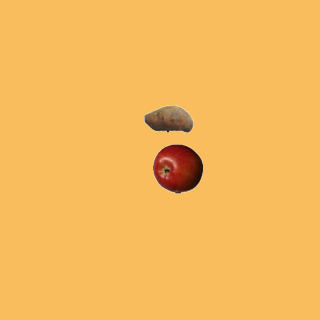Apple Braeburn: (152, 143, 202, 193)
Potato Sweet: (143, 93, 193, 143)
